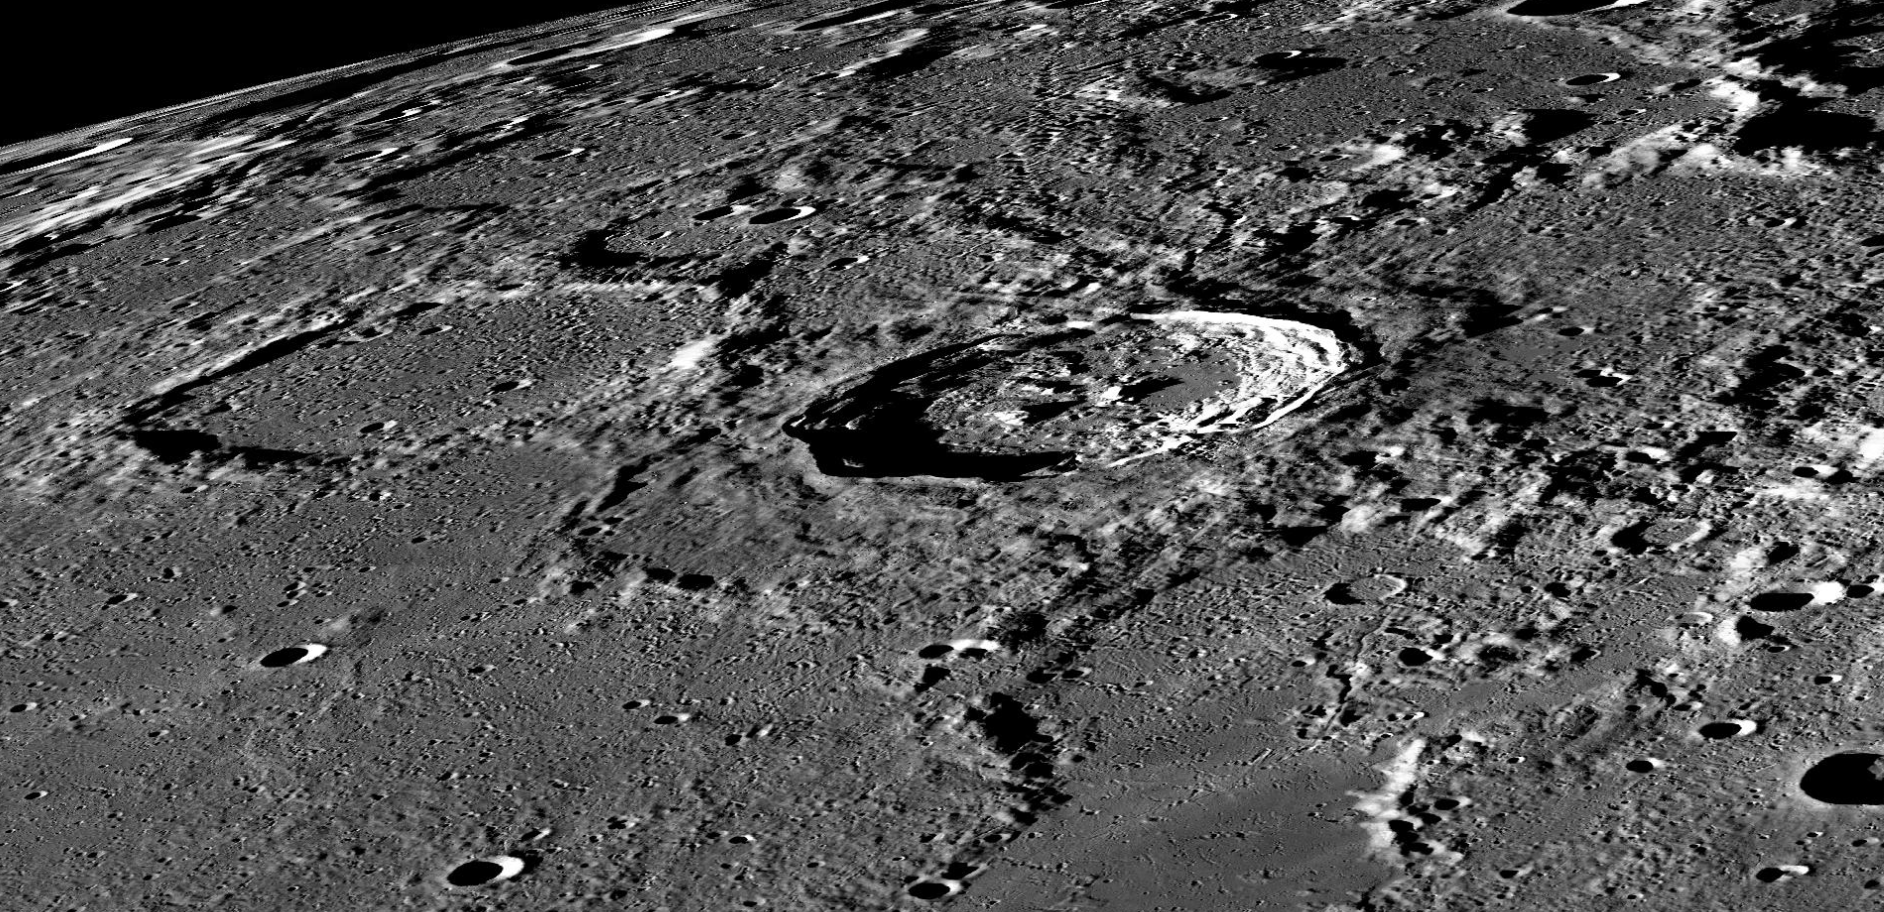crater: (93, 246, 789, 541), (788, 266, 1429, 559), (395, 835, 580, 900), (228, 615, 360, 703), (1305, 566, 1424, 625), (1602, 737, 1697, 798), (1682, 713, 1787, 756)
